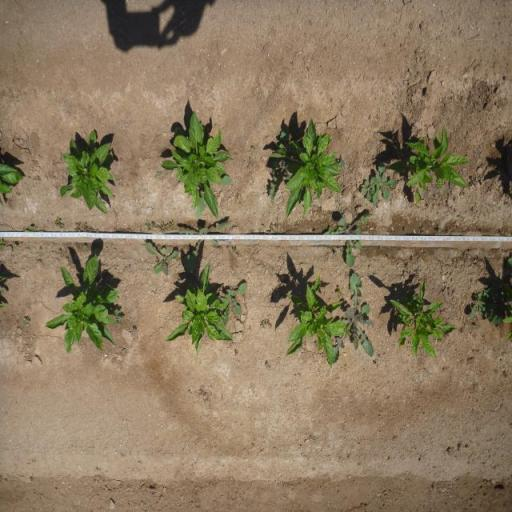plant: (265, 117, 343, 218), (160, 111, 235, 210), (165, 259, 236, 360), (48, 253, 116, 355), (281, 270, 343, 370), (396, 126, 471, 206), (388, 278, 458, 359), (56, 128, 116, 218), (0, 159, 24, 209)
weed: (342, 270, 376, 358), (324, 212, 374, 268), (180, 219, 230, 264), (360, 161, 397, 205), (468, 282, 504, 326), (144, 242, 180, 276), (223, 280, 247, 326), (268, 158, 287, 200), (74, 220, 100, 233), (156, 220, 176, 234), (259, 314, 274, 330), (113, 306, 125, 325), (24, 224, 45, 232), (144, 218, 156, 232), (266, 223, 279, 234), (54, 215, 64, 229), (337, 159, 345, 169), (23, 317, 30, 326), (446, 225, 452, 234), (154, 258, 160, 266), (265, 361, 271, 369), (336, 287, 342, 295), (294, 220, 300, 228), (154, 172, 162, 178), (12, 243, 18, 250), (156, 243, 162, 250), (374, 361, 380, 368), (0, 240, 5, 248), (234, 348, 239, 356), (421, 226, 426, 234), (232, 248, 238, 254), (250, 144, 256, 150), (82, 244, 87, 250), (437, 228, 442, 234), (410, 255, 415, 261), (472, 324, 479, 328), (313, 229, 318, 234), (471, 176, 476, 181), (132, 328, 138, 332), (449, 184, 453, 190), (404, 228, 408, 234), (470, 250, 472, 254)
